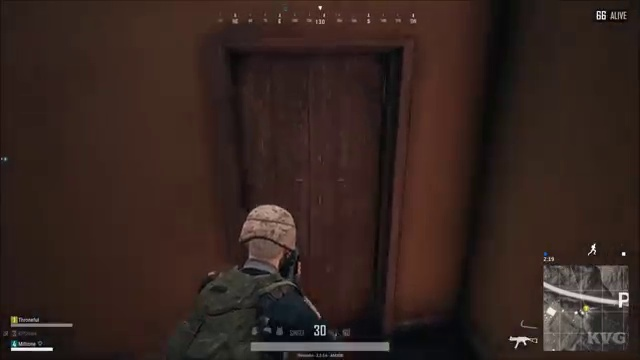Player: (155, 184, 350, 320)
